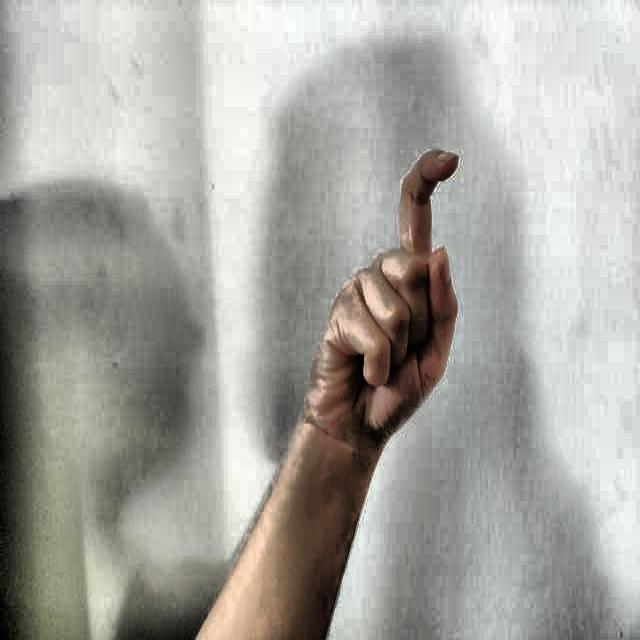E: (292, 131, 486, 458)
